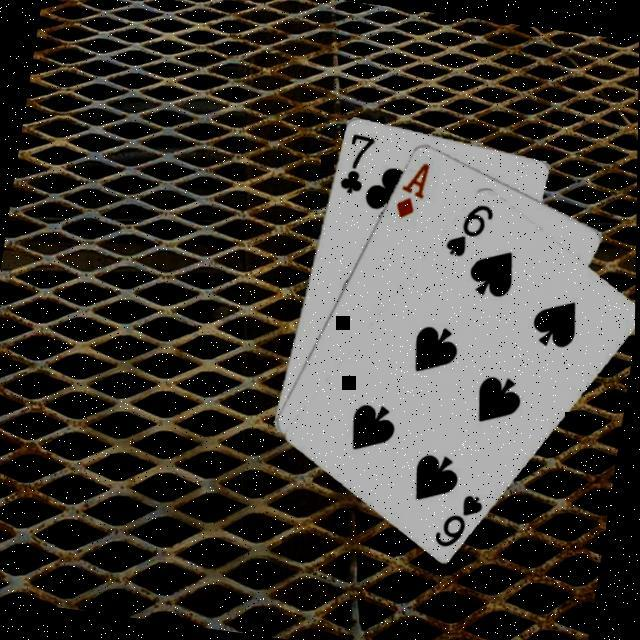6S: (430, 486, 488, 552), (441, 196, 498, 262)
7C: (334, 128, 378, 197)
AD: (389, 154, 434, 222)
